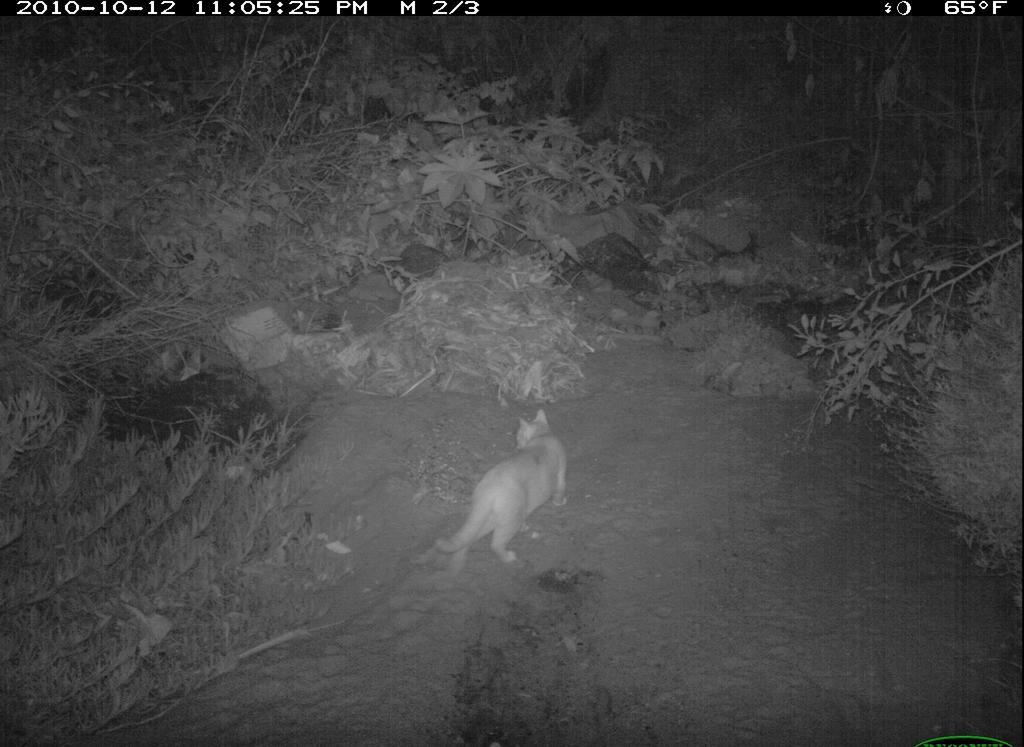cat: (428, 405, 580, 584)
